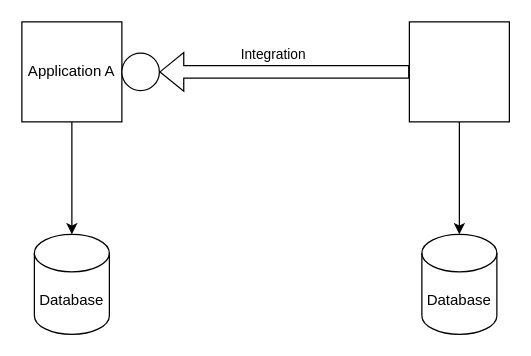
Image size: 531x356. Some labels were removed from this diagram. Here are the shapes that lost their labels. From the top down, the centre of each, then its label:
At (140,71): "API".
At (458,71): "Application B".
